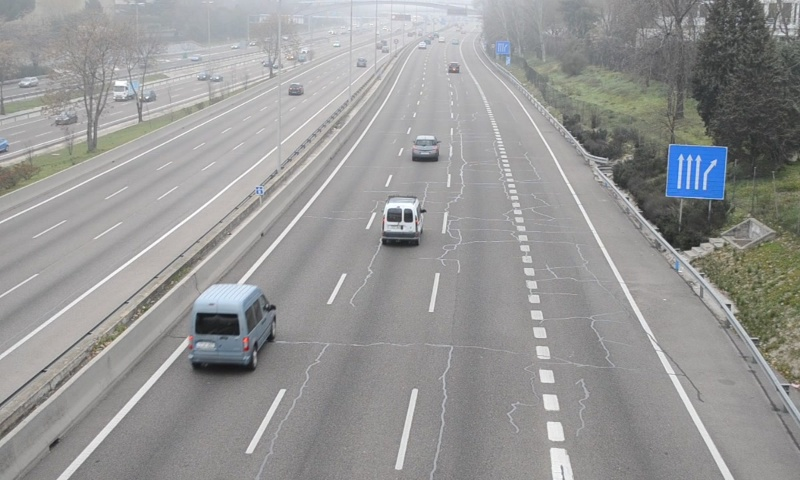car: (411, 135, 439, 160)
van: (187, 286, 274, 368), (381, 196, 421, 241)
